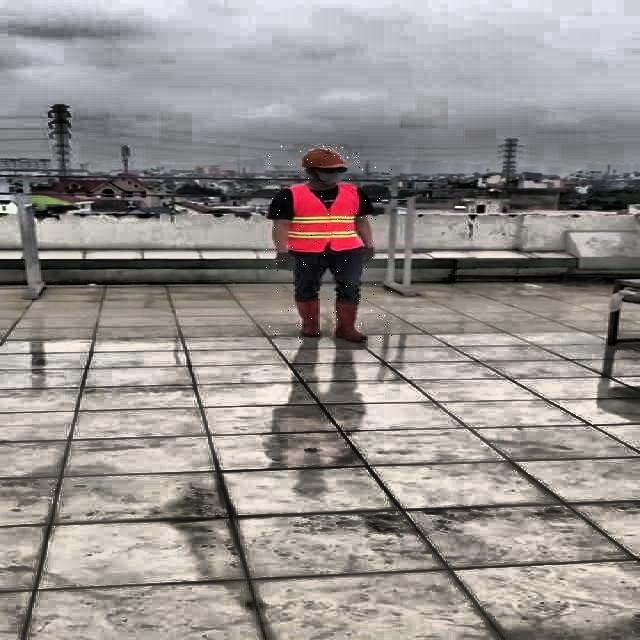safety_helmet: (300, 148, 348, 169)
safety_jacket: (288, 184, 364, 253)
